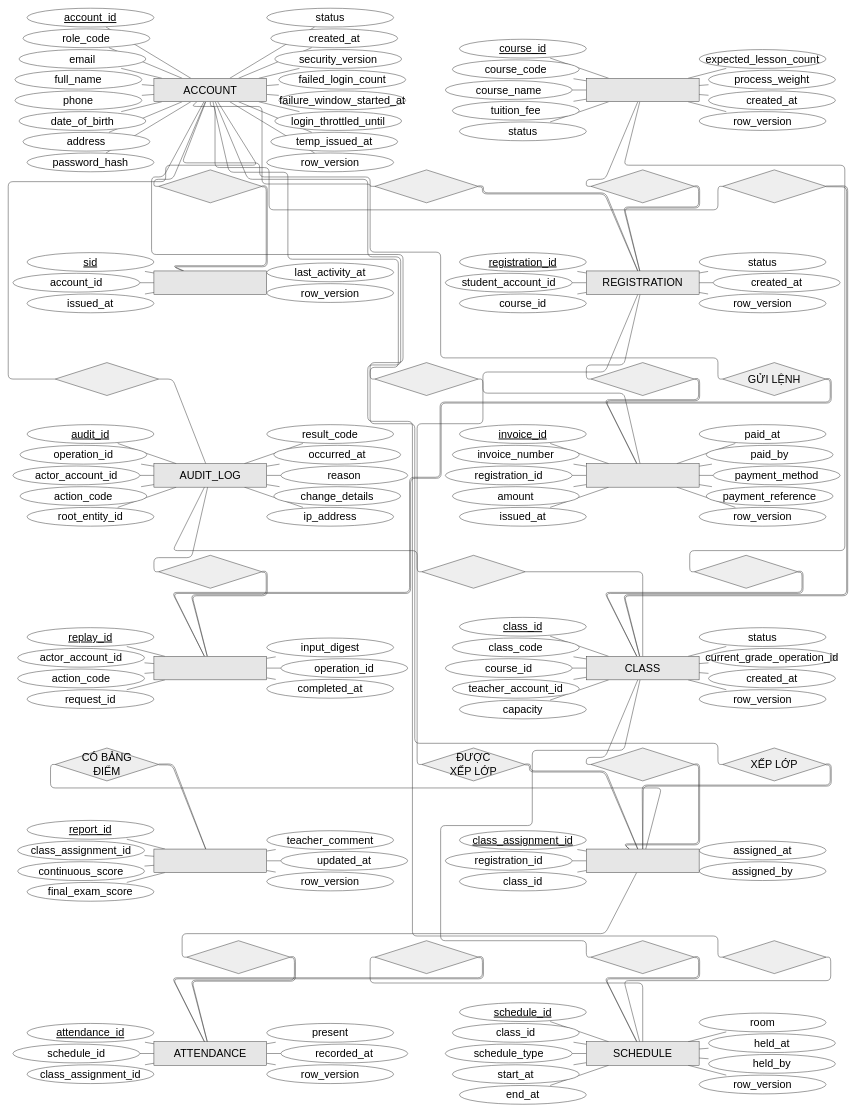
The diagram is 857 pixels wide and 1112 high, and some of its shapes have lost their labels. The shapes that lost their labels are listed below. From the top down, each one's box as (x1, y1, x2, y2) in pixels, then its label:
(586, 78, 699, 102): COURSE
(158, 169, 262, 203): CÓ PHIÊN
(374, 169, 478, 203): ĐĂNG KÝ
(591, 169, 694, 203): THUỘC KHÓA
(722, 169, 826, 203): GIẢNG DẠY
(153, 270, 267, 294): AUTH_SESSION
(55, 362, 159, 396): THỰC HIỆN
(374, 362, 478, 396): THU TIỀN
(591, 362, 694, 396): CÓ HÓA ĐƠN
(586, 463, 699, 487): INVOICE
(158, 555, 262, 588): GHI NHẬN LỆNH
(421, 555, 525, 588): QUYẾT ĐỊNH ĐIỂM
(694, 555, 798, 588): CÓ LỚP
(153, 656, 267, 680): REPLAY_OPERATION
(591, 748, 694, 781): CÓ HỌC VIÊN
(153, 849, 267, 873): GRADE_REPORT
(586, 849, 699, 873): STUDENT_CLASS ASSIGNMENT
(186, 940, 290, 974): ĐƯỢC ĐIỂM DANH
(374, 940, 478, 974): CÓ ĐIỂM DANH
(591, 940, 694, 974): CÓ LỊCH
(722, 940, 826, 974): XÁC NHẬN BUỔI
